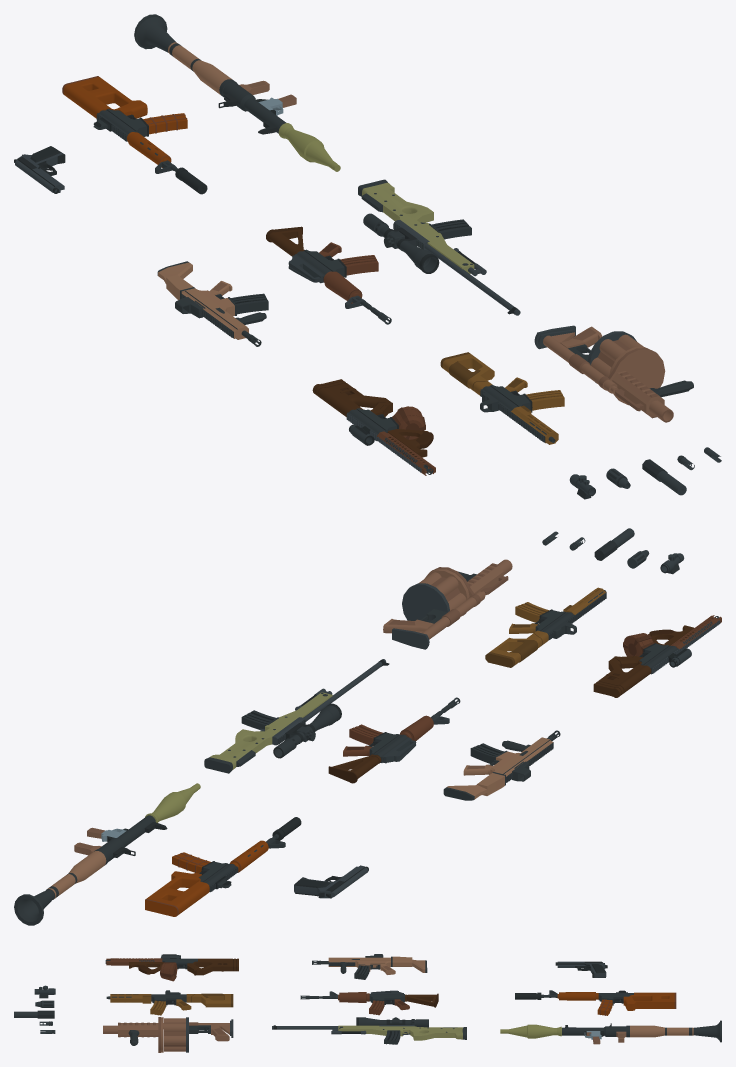
File: guns_low_poly.glb
3 renders of one model, top to bottom at view 1: azimuth 30°, elevation 25°; view 2: azimuth 150°, elevation 25°; view 3: azimuth 270°, elevation 25°, orthographic. The views are drawn at different scales.
Parts seen in each view (by area): view 1: GL1, SNIPER1, RPG, MG2, MG3, MG4, MG1, MG5, MSR; view 2: GL1, SNIPER1, RPG, MG2, MG3, MG4, MG1, MG5, MSR; view 3: GL1, RPG, SNIPER1, MG2, MG3, MG4, MG5, MG1, MSR, BE4, BE5.
Boxes of the visible parts, box(x1,y1,x2,y2) form: GL1: box(534, 325, 693, 422); SNIPER1: box(358, 179, 520, 315); RPG: box(134, 14, 340, 171); MG2: box(62, 76, 207, 194); MG3: box(312, 379, 435, 475); MG4: box(440, 352, 564, 444); MG1: box(157, 261, 268, 346); MG5: box(266, 226, 391, 324); MSR: box(14, 146, 65, 193); GL1: box(383, 559, 512, 649); SNIPER1: box(204, 659, 389, 773); RPG: box(14, 783, 200, 925); MG2: box(145, 817, 301, 916); MG3: box(593, 615, 721, 697); MG4: box(485, 587, 606, 667); MG1: box(443, 730, 560, 800); MG5: box(328, 697, 460, 783); MSR: box(294, 865, 368, 898); GL1: box(103, 1017, 233, 1052); RPG: box(500, 1020, 721, 1044); SNIPER1: box(272, 1017, 466, 1044); MG2: box(515, 990, 676, 1015); MG3: box(105, 954, 238, 981); MG4: box(106, 990, 233, 1015); MG5: box(300, 990, 438, 1015); MG1: box(312, 954, 427, 979); MSR: box(555, 961, 607, 977); BE4: box(14, 1010, 54, 1018); BE5: box(34, 985, 55, 998).
Size of the model in its own units: 6.86 by 1.18 by 23.25.
Materials: 1 (1 with a texture image).
